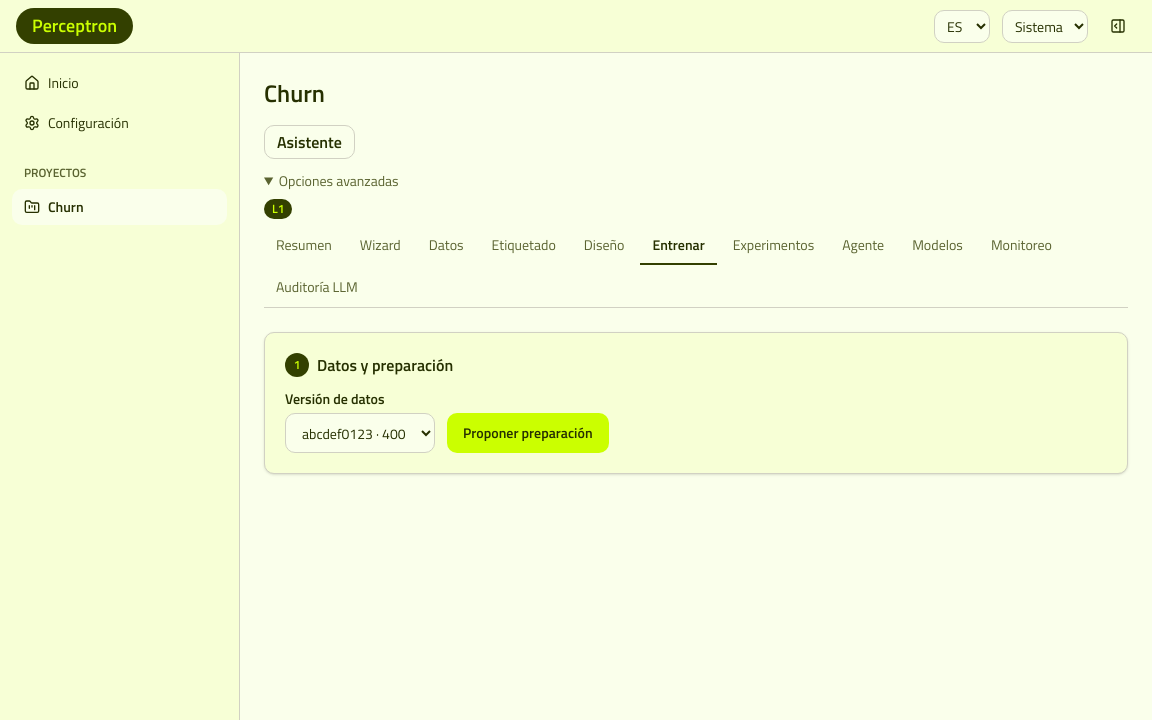
Test case: pantallas › Entrenar: las propuestas del LLM se marcan como IA y se aceptan
Step 1. Click the button "Proponer preparación" → click(528, 433), box [447,413,608,453]
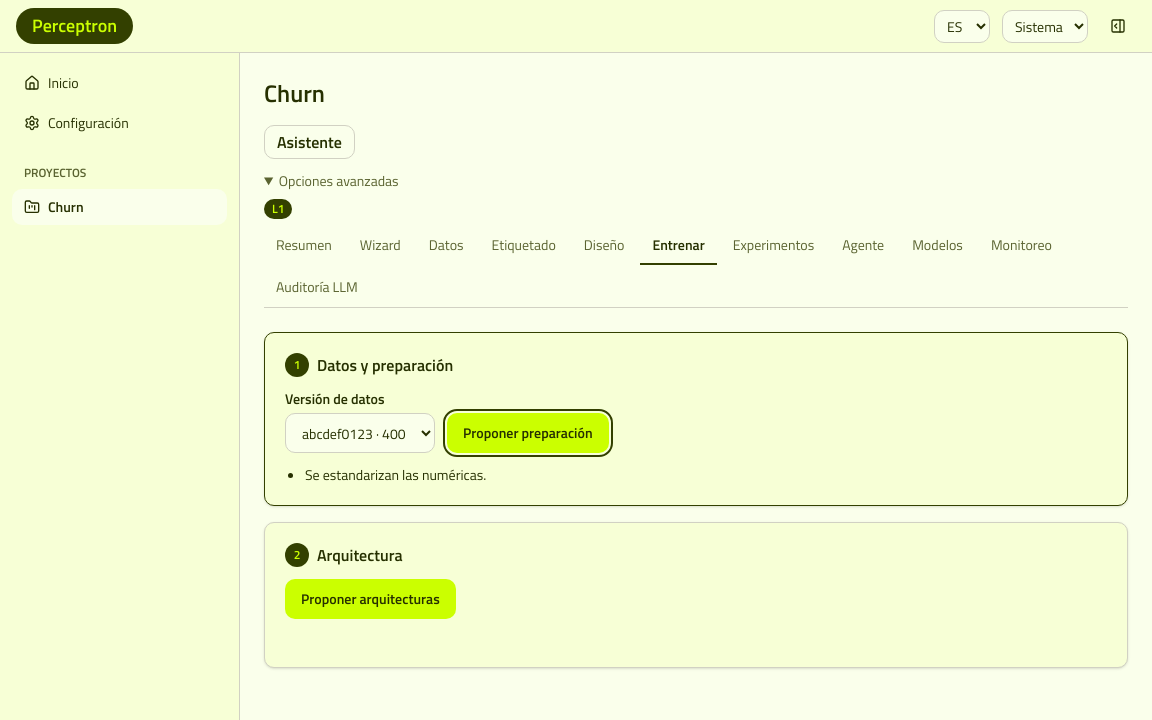
Expected: the list item "Se estandarizan las numéricas." is shown, [305,464,486,485]
Step 2. Click the button "Proponer arquitecturas" → click(370, 599), box [285,579,456,619]
(page scrolled)
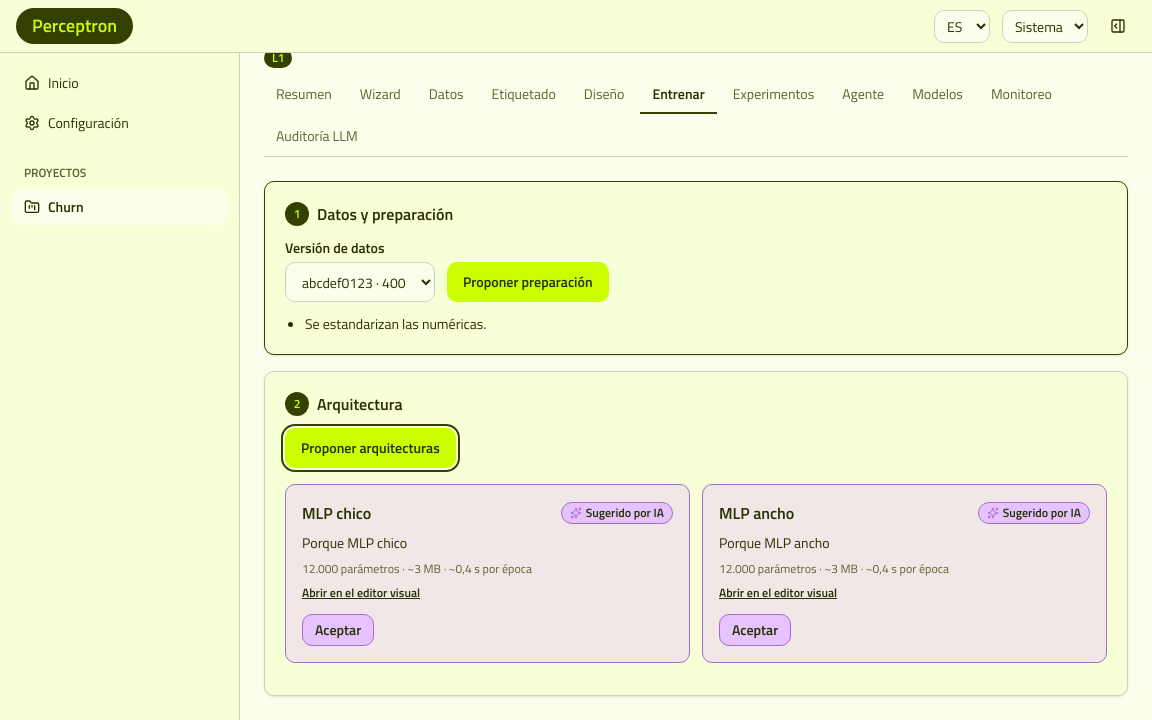
Expected: the text "Presupuesto y búsqueda de hiperparámetros" is not shown
Expected: the 2nd text "Sugerido por IA" is shown, [978,502,1090,524]
Step 3. Click the button "Aceptar" below "Porque MLP ancho" → click(755, 630), box [719,614,791,646]
(page scrolled)
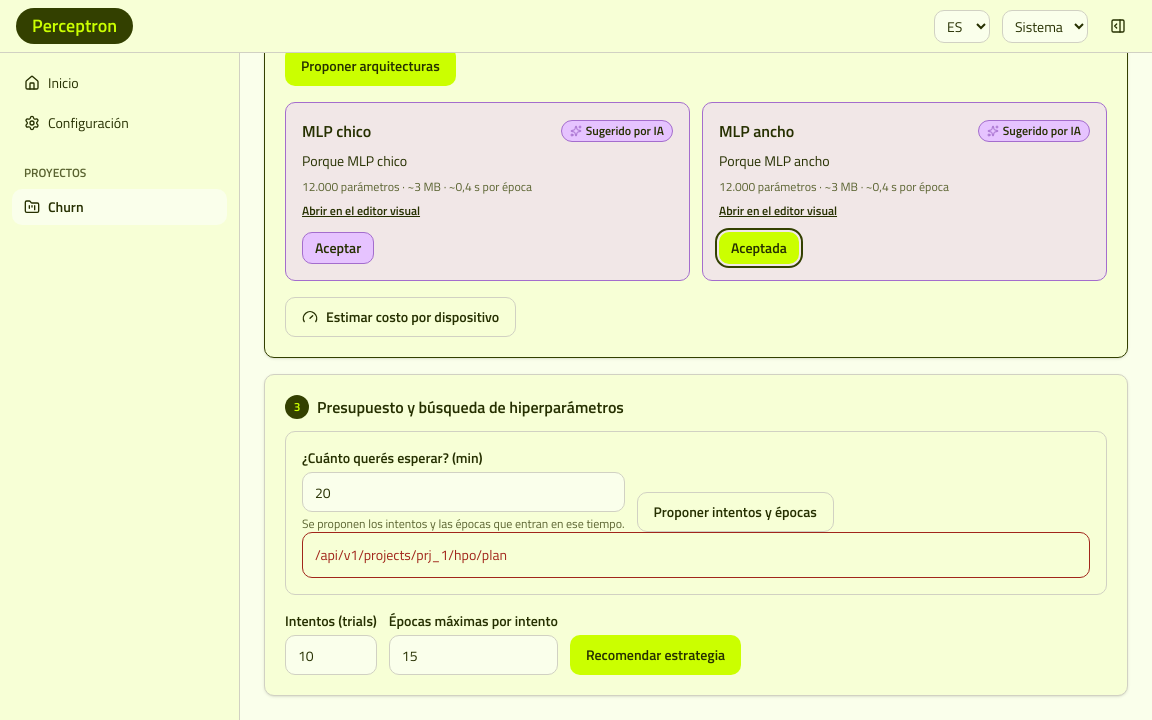
Expected: the heading "Presupuesto y búsqueda de hiperparámetros" is shown, [317,395,624,419]
